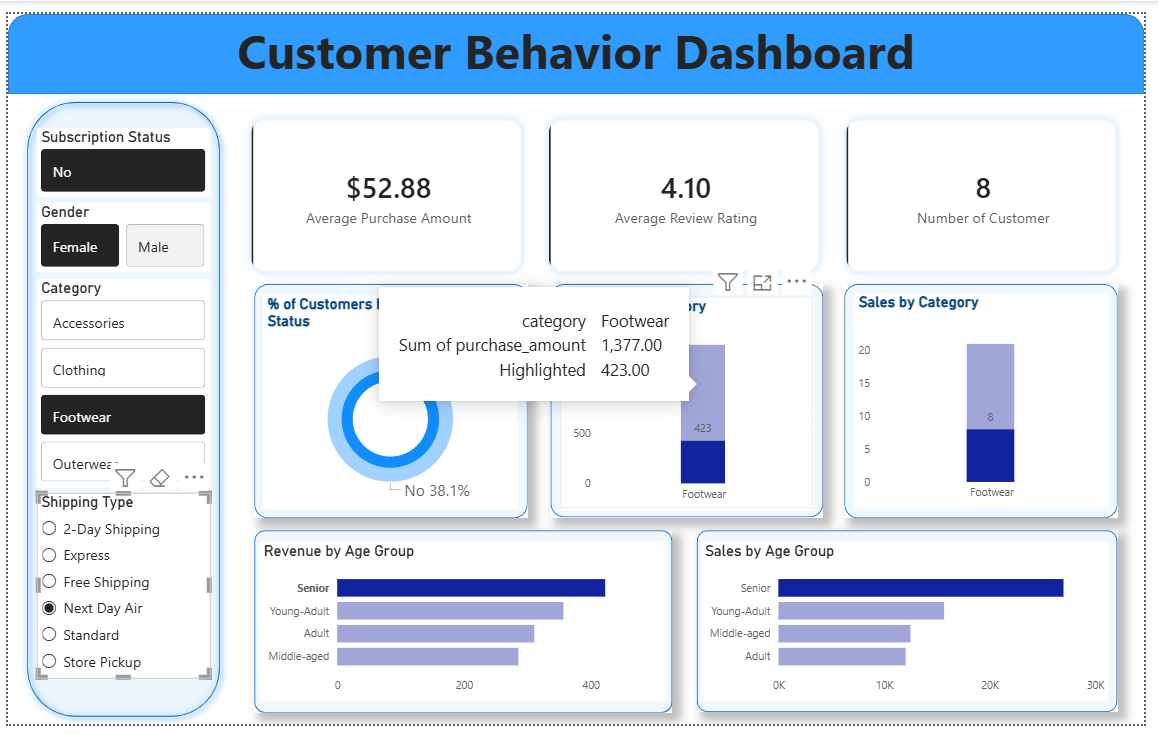

What the dashboard file says about the page in this screenshot:
{"tool":"powerbi","page":{"name":"Page 1","canvas":[1280,800],"ordinal":0},"visuals":[{"type":"cardVisual","fields":{"Data":["customers.Average Purchase Amount","customers.Average Review Rating","customers.Number of Customer"]},"box":[247,90.5,1033.3,229.9],"z":0},{"type":"shape","box":[0,0,1280.3,90.5],"z":1000},{"type":"textbox","box":[0,0,1280.3,90.5],"z":2000},{"type":"shape","box":[278.1,304,308.2,264.1],"z":3000},{"type":"donutChart","title":" % of Customers by Subscription Status","fields":{"Category":["customers.subscription_status"],"Y":["CountNonNull(customers.customer_id)"]},"box":[287.9,316.2,287.4,240.9],"z":4000},{"type":"shape","box":[610.9,303.7,307.5,263],"z":5000},{"type":"clusteredColumnChart","title":"Revenue by Category","fields":{"Y":["Sum(customers.purchase_amount)"],"Category":["customers.category"]},"box":[622.1,317.7,285.2,240.7],"z":6000},{"type":"shape","box":[942.1,304,308.2,264.1],"z":7000},{"type":"clusteredColumnChart","title":"Sales by Category","fields":{"Category":["customers.category"],"Y":["CountNonNull(customers.customer_id)"]},"box":[953.1,313.8,287.4,243.3],"z":8000},{"type":"shape","box":[12.2,89.7,235.1,710.6],"z":9000},{"type":"advancedSlicerVisual","title":"Subscription Status","fields":{"Values":["customers.subscription_status"]},"box":[32.6,127.7,195.7,77.4],"z":10000},{"type":"advancedSlicerVisual","title":"Gender","fields":{"Values":["customers.gender"]},"box":[32.6,213.3,195.7,77.4],"z":11000},{"type":"advancedSlicerVisual","title":"Category","fields":{"Values":["customers.category"]},"box":[31.9,298.2,195.8,234.9],"z":12000},{"type":"listSlicer","title":"Shipping Type","fields":{"Values":["customers.shipping_type"]},"box":[31.9,539.8,195.8,209.6],"z":13000},{"type":"shape","box":[277.9,581.7,471.2,205.8],"z":14000},{"type":"clusteredBarChart","title":"Revenue by Age Group","fields":{"Y":["Sum(customers.purchase_amount)"],"Category":["customers.age_group"]},"box":[283.8,593.8,460,180],"z":15000},{"type":"shape","box":[776,581.7,474,204.8],"z":15001},{"type":"clusteredBarChart","title":"Sales by Age Group","fields":{"Category":["customers.age_group"],"Y":["Sum(customers.customer_id)"]},"box":[780,593.8,460,180],"z":15002}]}

Visuals, with their boxes in screenshot pixels (x1, y1, x2, y2), scaled from the page's 1280x800 canvas onto the 1158x735 screenshot:
cardVisual - customers.Average Purchase Amount x customers.Average Review Rating: select_region(223, 83, 1157, 294)
shape: select_region(0, 0, 1157, 83)
textbox: select_region(0, 0, 1157, 83)
shape: select_region(252, 279, 530, 522)
" % of Customers by Subscription Status" donutChart: select_region(260, 291, 520, 512)
shape: select_region(553, 279, 831, 521)
"Revenue by Category" clusteredColumnChart: select_region(563, 292, 821, 513)
shape: select_region(852, 279, 1131, 522)
"Sales by Category" clusteredColumnChart: select_region(862, 288, 1122, 512)
shape: select_region(11, 82, 224, 734)
"Subscription Status" advancedSlicerVisual: select_region(29, 117, 207, 188)
"Gender" advancedSlicerVisual: select_region(29, 196, 207, 267)
"Category" advancedSlicerVisual: select_region(29, 274, 206, 490)
"Shipping Type" listSlicer: select_region(29, 496, 206, 689)
shape: select_region(251, 534, 678, 724)
"Revenue by Age Group" clusteredBarChart: select_region(257, 546, 673, 711)
shape: select_region(702, 534, 1131, 723)
"Sales by Age Group" clusteredBarChart: select_region(706, 546, 1122, 711)
